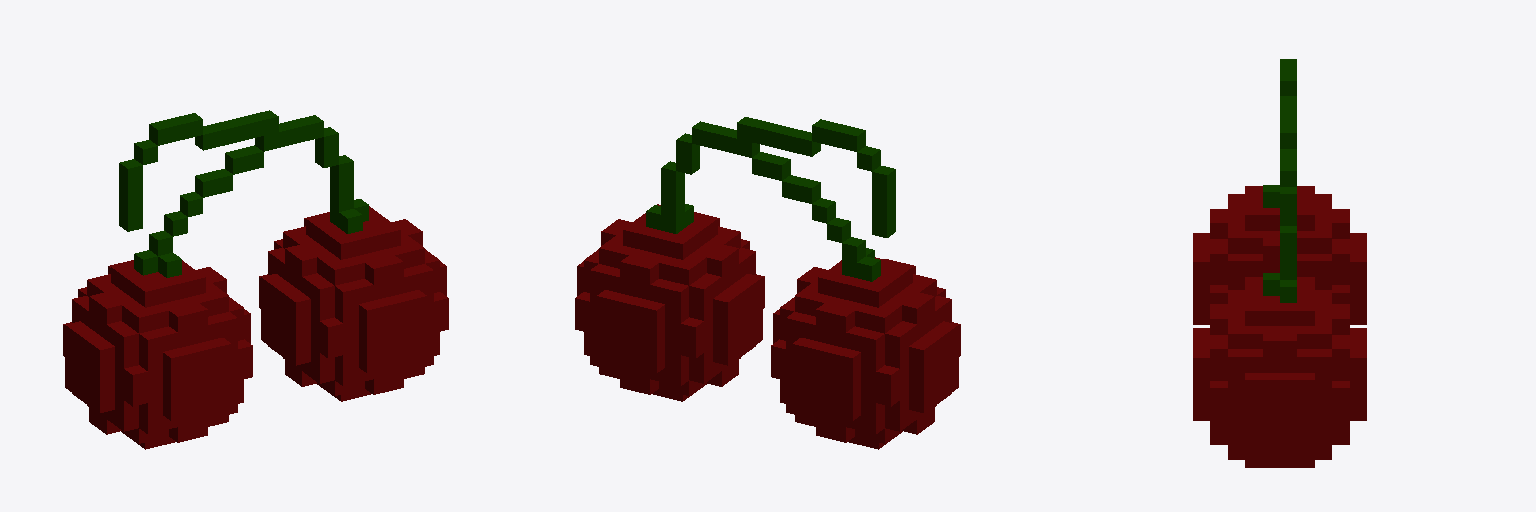
The picture shows the model from 3 angles: view 1: azimuth 30°, elevation 25°; view 2: azimuth 150°, elevation 25°; view 3: azimuth 270°, elevation 25°; orthographic projection.
Visible parts, largest first — view 1: object 1; view 2: object 1; view 3: object 1.
Part boxes in pixels (left/top/right/bottom): object 1: left=63, top=110, right=448, bottom=449; object 1: left=575, top=117, right=960, bottom=449; object 1: left=1193, top=59, right=1366, bottom=467.
Bounding box in the file's own units: 2.3 × 1.9 × 1.
1 materials, 1 textured.